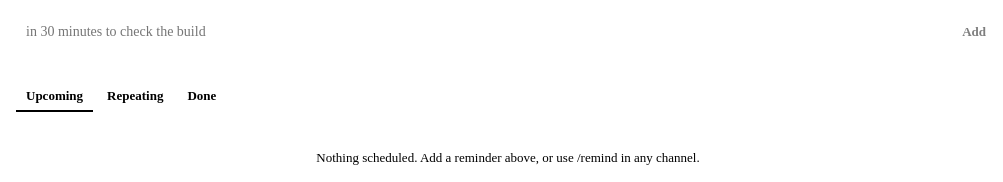
Test: RemindersSidebar › quick add › shows why a phrase could not be read
The width and height of the screenshot is (1003, 182).
expect the text "Nothing scheduled" is shown: met, box top-left (316, 150), bottom-right (700, 165)
Type "gibberish" into the field named "Remind me" at (478, 32), box top-left (16, 16), bottom-right (940, 48)
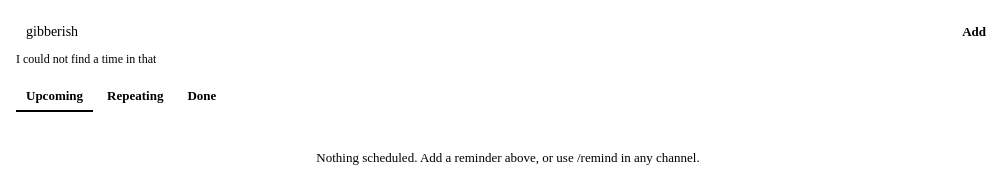
expect the text "I could not find a time in that" is shown: met, box top-left (16, 52), bottom-right (156, 66)
